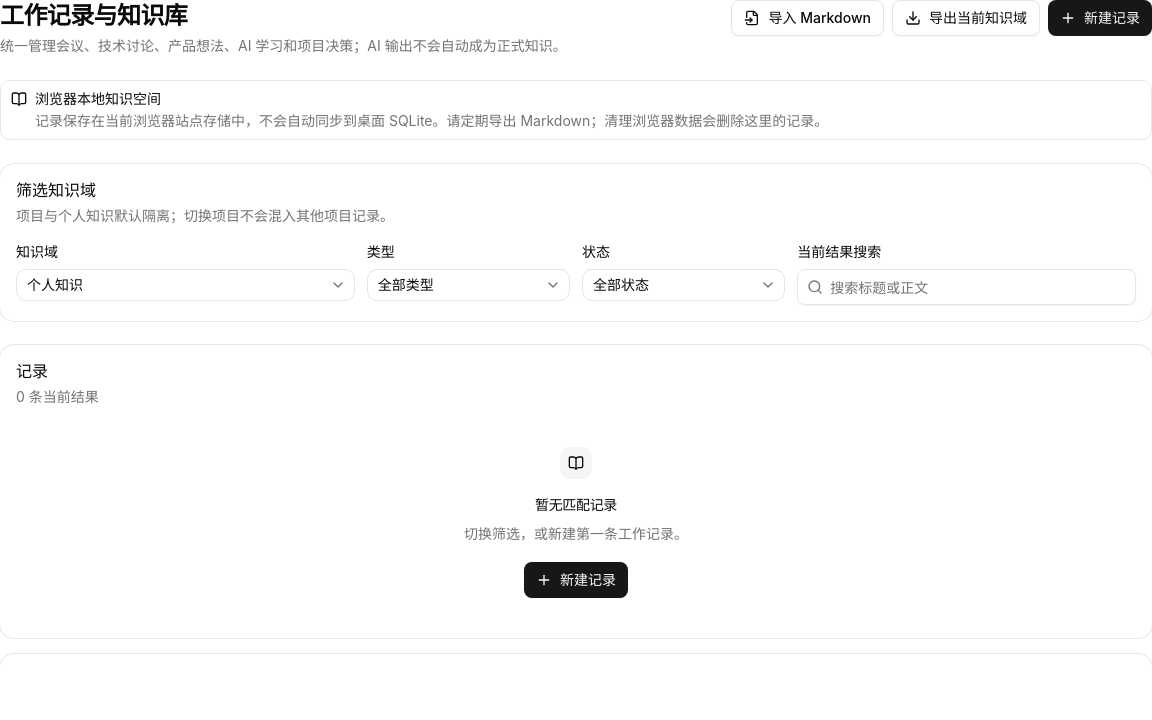
Scenario: KnowledgePage › explains browser-local storage and exposes the five-record creation flow
This screenshot has width=1152, height=720.
Expected: the heading "工作记录与知识库" is shown, 0,1 -> 187,30
Expected: the text "不会自动同步到桌面 SQLite" is shown, 35,112 -> 828,129
What coordinates should you click on to do the following:
click the button "新建记录" in the row of "工作记录与知识库"
I would click on:
 (1100, 18)
Its box is 1048,0 -> 1151,36.
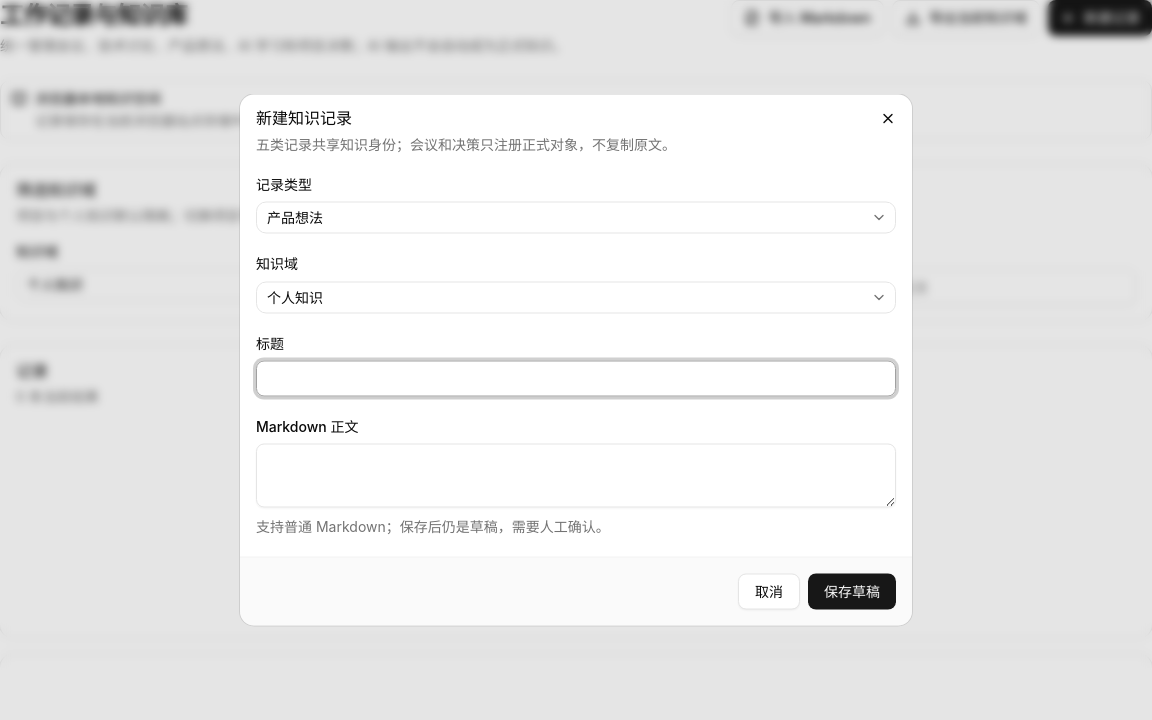
Result: the dialog "新建知识记录" is shown at 240,94 -> 912,626
Result: the text "五类记录共享知识身份；会议和决策只注册正式对象，不复制原文。" is shown at 256,136 -> 676,152
Result: the text box labelled "Markdown 正文" is shown at 256,444 -> 896,508
